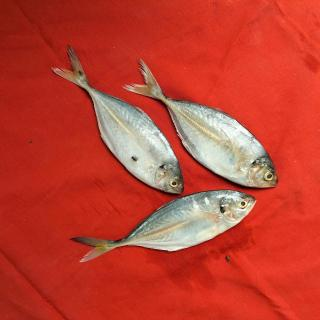Ikan: (49, 41, 281, 279)
